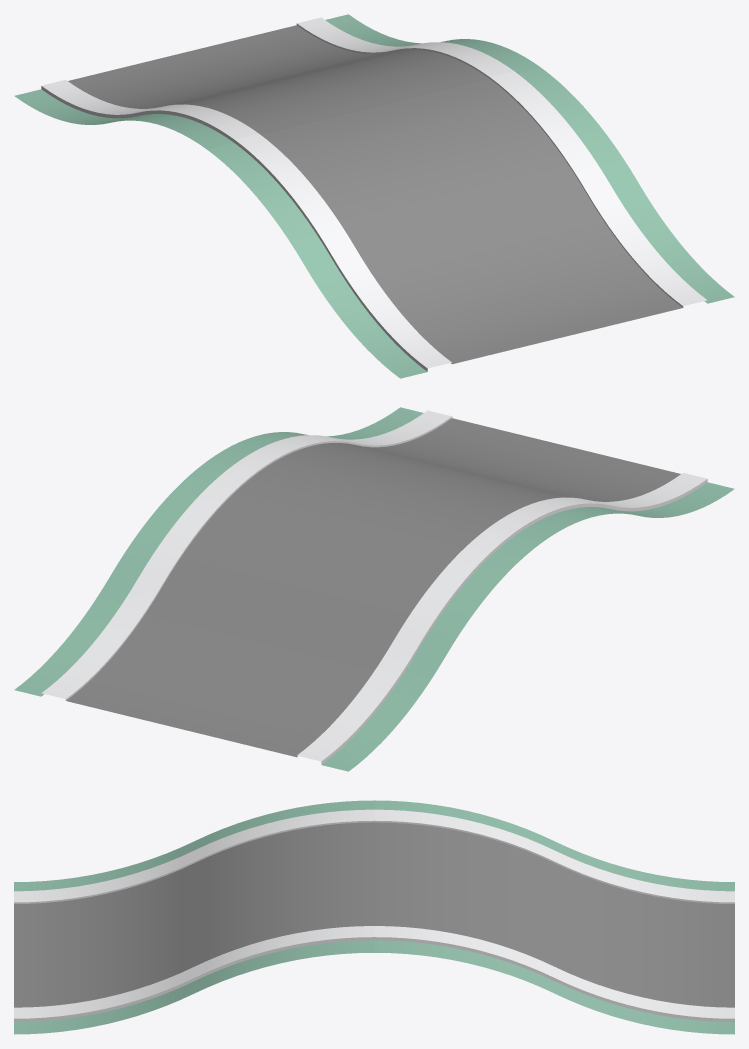
The model's file is roadStraightLongBump.glb.
3 views of the same model, one above another, from view 1: azimuth 30°, elevation 25°; view 2: azimuth 150°, elevation 25°; view 3: azimuth 270°, elevation 25° (orthographic). The views are drawn at different scales.
Visible parts, largest first — view 1: roadStraightLongBump(Clone); view 2: roadStraightLongBump(Clone); view 3: roadStraightLongBump(Clone).
Boxes of the visible parts, bbox=[...] form: roadStraightLongBump(Clone): bbox=[14, 14, 734, 378]; roadStraightLongBump(Clone): bbox=[14, 407, 734, 771]; roadStraightLongBump(Clone): bbox=[14, 800, 734, 1034].
Size of the model in its own units: 1 by 0.26 by 2.
